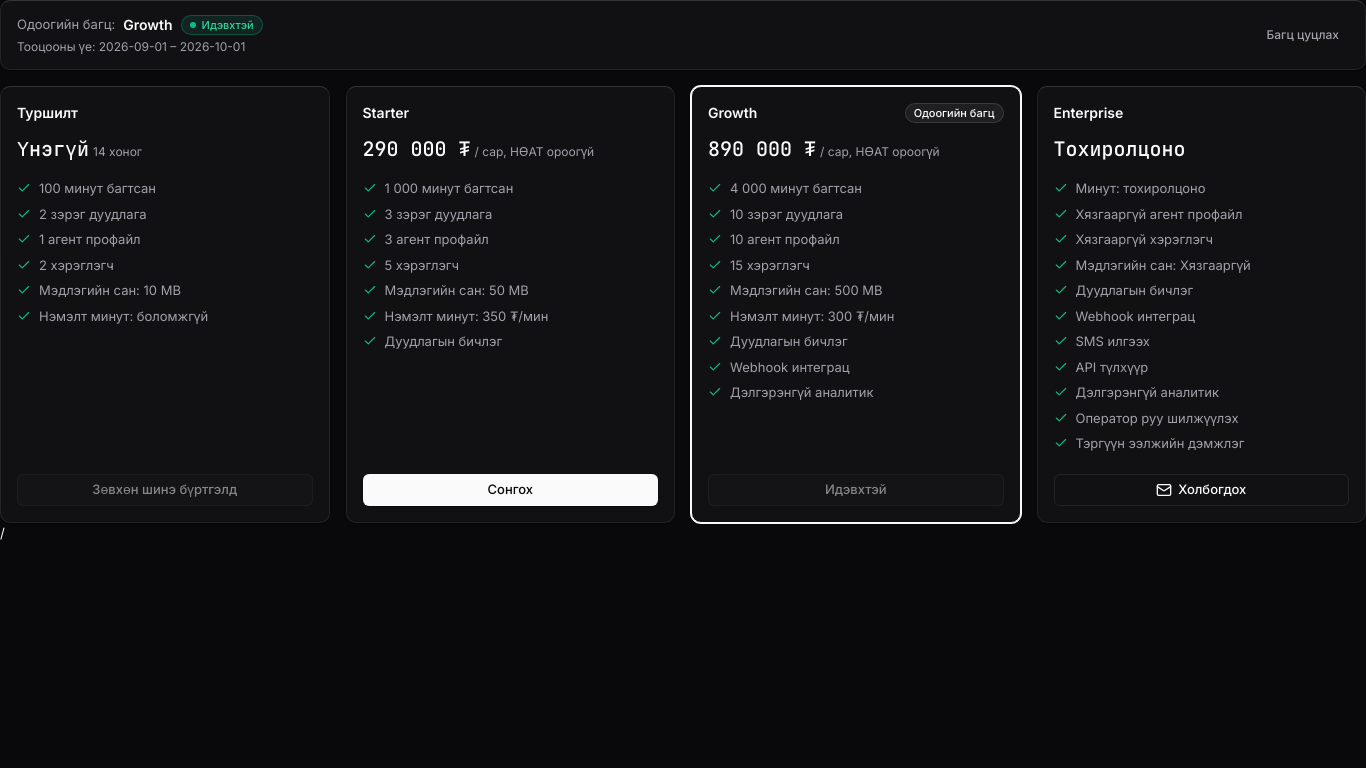
it: PlansGrid › does not open the pay dialog when no invoice is returned (downgrade)
Click the button with aria-label "Starter багц сонгох" at [510, 490], box [362,474,658,506]
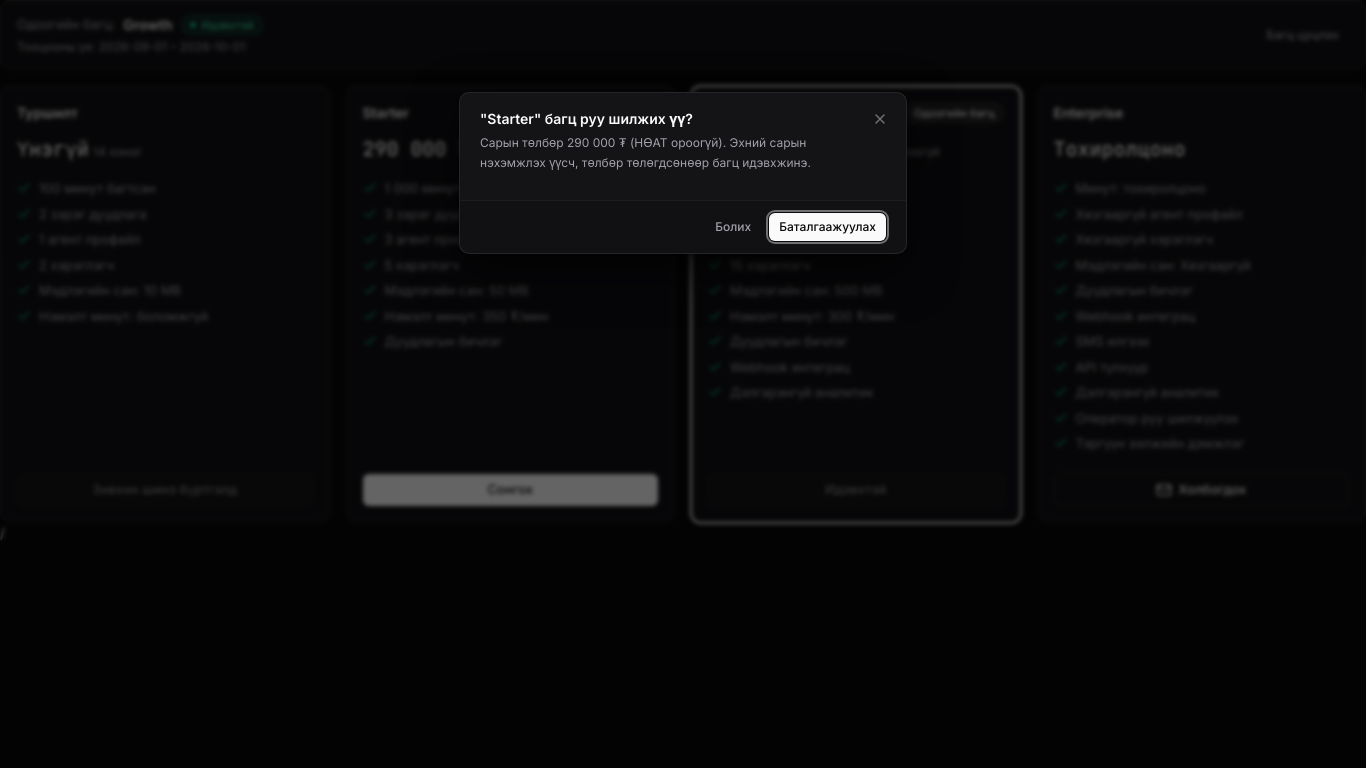
Click the button "Баталгаажуулах" at [828, 227], box [769,213,886,241]
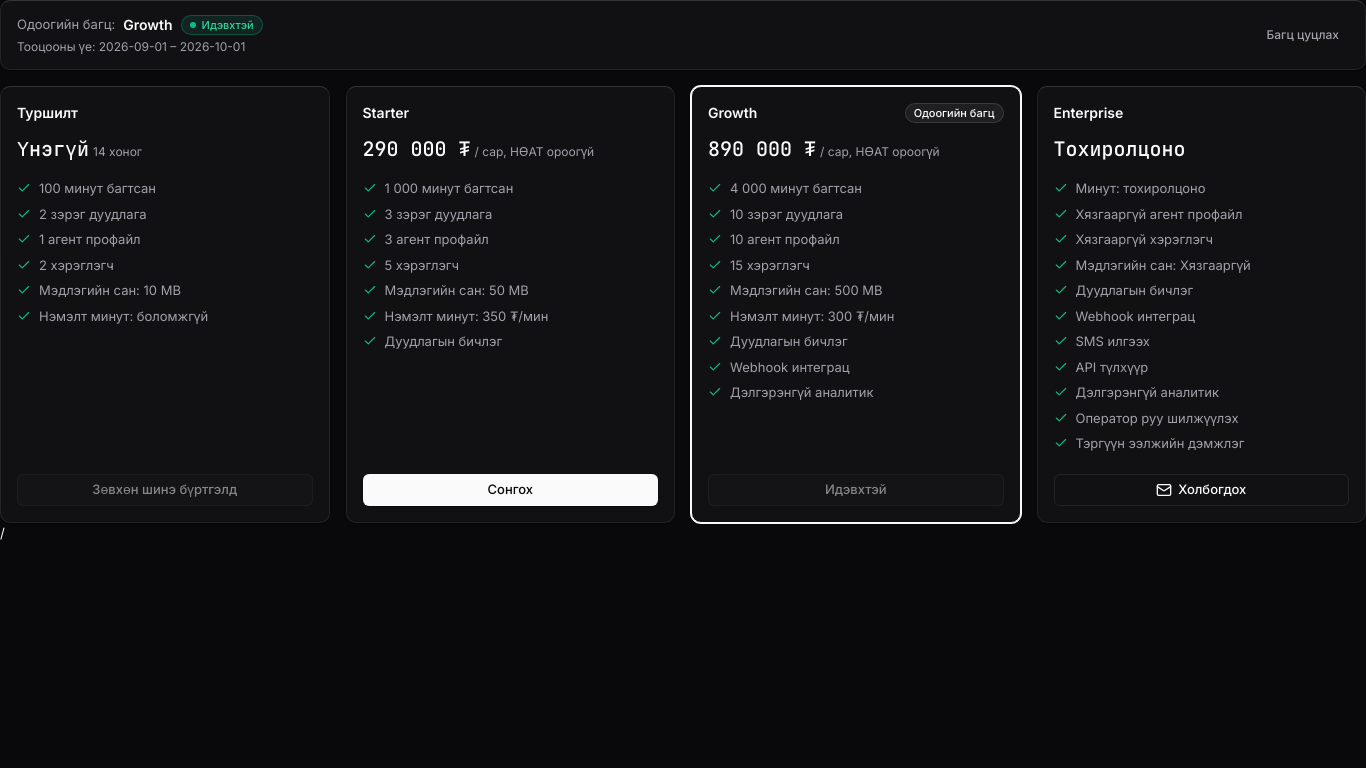
Now the dialog is gone
